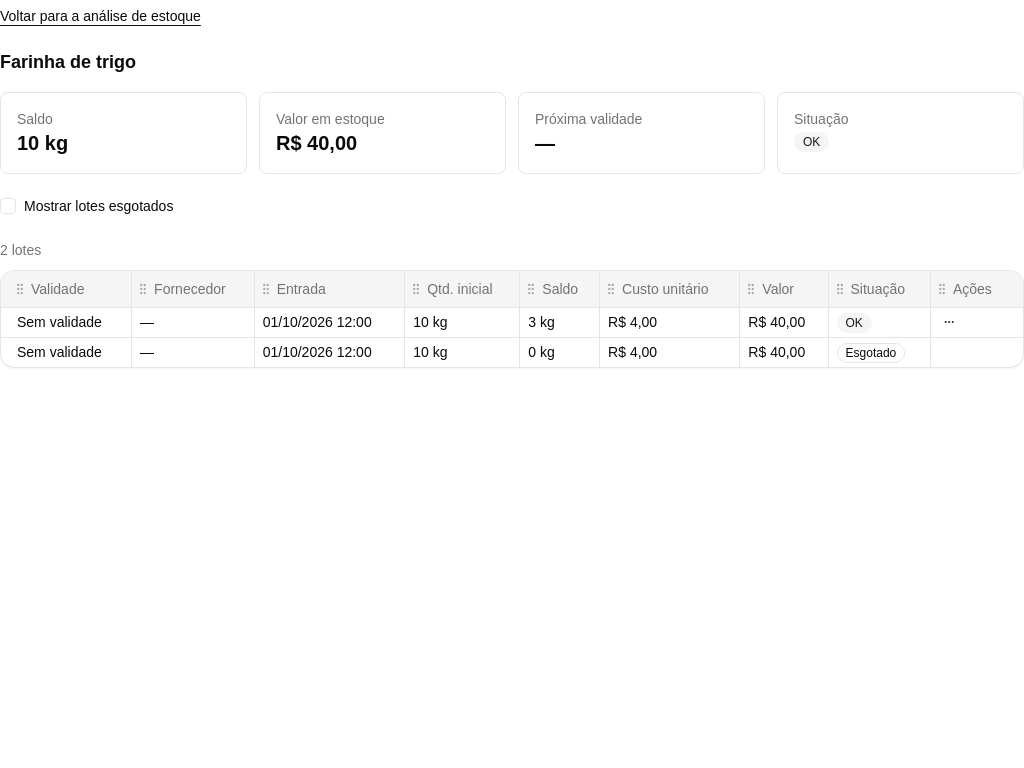
StockProductPage › writing a lot off › offers it on each lot that still holds something, to whoever may record a loss
What coordinates should you click on to do the following:
click the button named "Ações do lote"
I would click on:
 (949, 322)
Its box is [939,312,959,332].
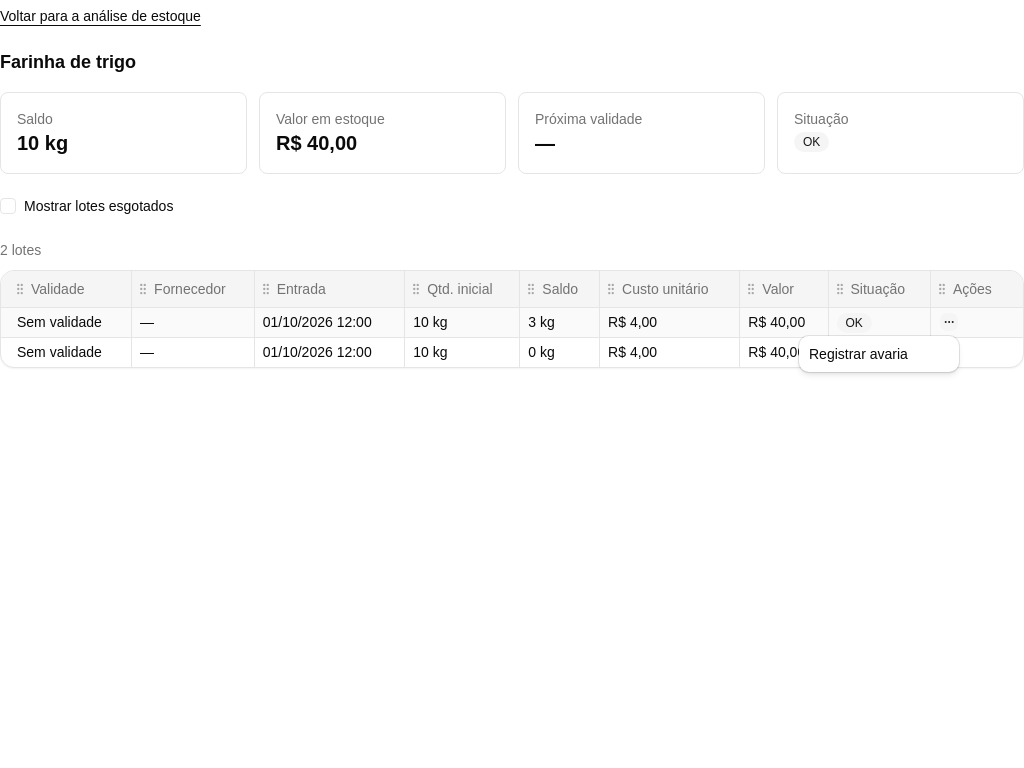
What coordinates should you click on to do the following:
click the menu item "Registrar avaria"
I would click on:
 (858, 354)
Its box is [809,346,908,362].
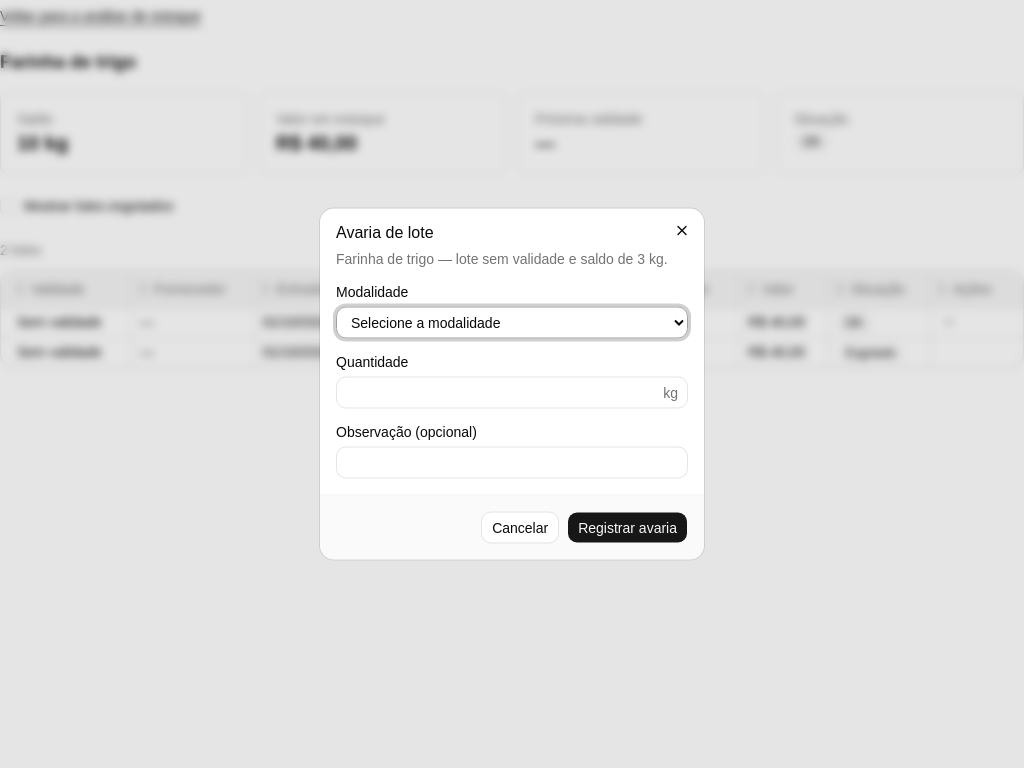
Expected: the dialog shows "saldo de 3 kg", [320,208,704,560]
